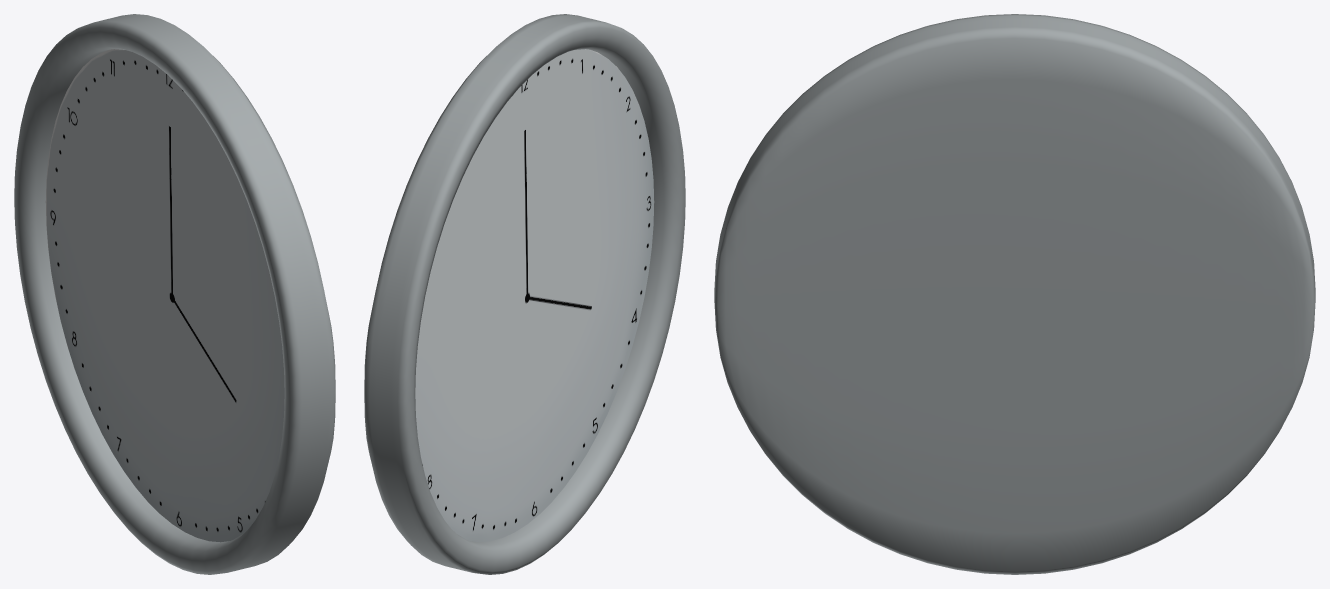
Rendered from clock2.fbx.
3 renders of one model, left to right at view 1: azimuth 30°, elevation 25°; view 2: azimuth 150°, elevation 25°; view 3: azimuth 270°, elevation 25°, orthographic. The views are drawn at different scales.
Parts seen in each view (by area): view 1: clock; view 2: clock; view 3: clock.
Boxes of the visible parts, box(x1,y1,x2,y2) form: clock: box(14, 14, 335, 574); clock: box(364, 14, 685, 574); clock: box(714, 14, 1315, 574).
Size of the model in its own units: 8.15 by 90.44 by 90.44.
Materials: 2 (1 with a texture image).
